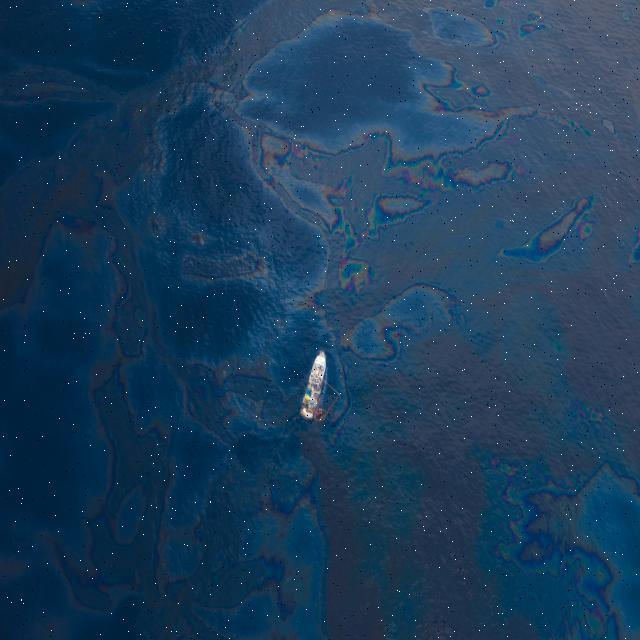oil: (211, 17, 536, 185)
